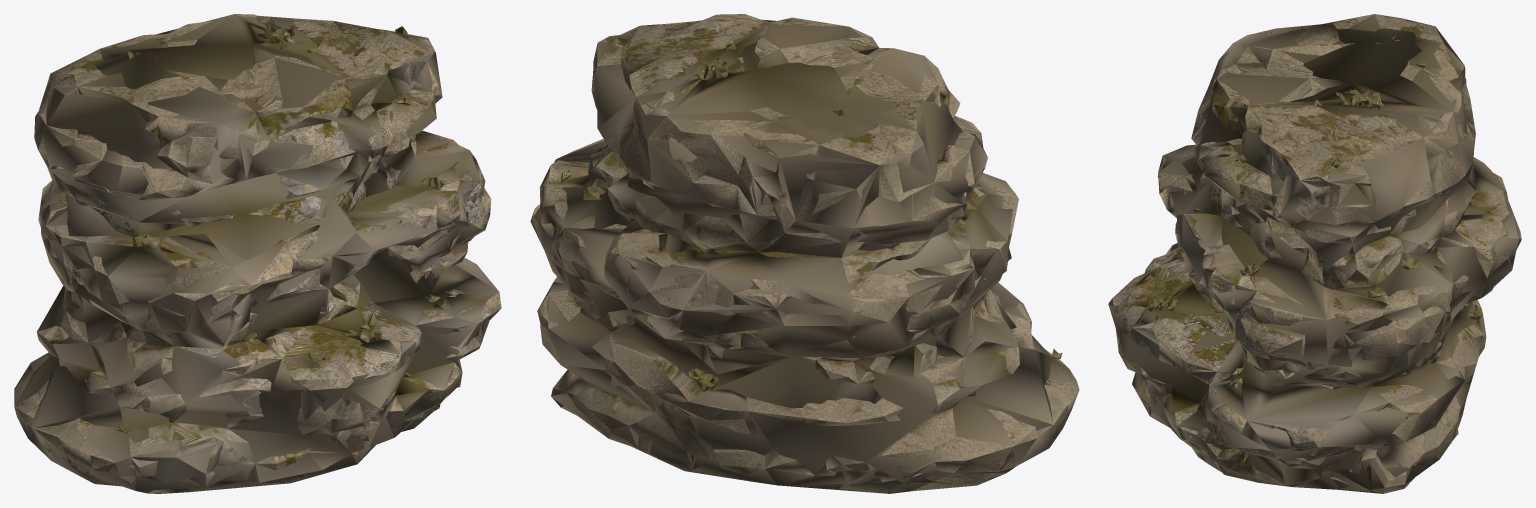
The model's file is risco_estratos.glb.
3 renders of one model, left to right at view 1: azimuth 30°, elevation 25°; view 2: azimuth 150°, elevation 25°; view 3: azimuth 270°, elevation 25°, orthographic. The views are drawn at different scales.
Visible parts, largest first — view 1: cerca, medio, lejos; view 2: cerca, medio, lejos; view 3: cerca, medio, lejos.
Part boxes in pixels (left/top/right/bottom): cerca: left=14, top=14, right=501, bottom=493; medio: left=15, top=14, right=498, bottom=493; lejos: left=32, top=14, right=498, bottom=490; cerca: left=530, top=14, right=1079, bottom=493; medio: left=537, top=15, right=1076, bottom=485; lejos: left=538, top=19, right=1053, bottom=475; cerca: left=1108, top=14, right=1521, bottom=493; medio: left=1108, top=14, right=1519, bottom=491; lejos: left=1108, top=27, right=1519, bottom=491.
Size of the model in its own units: 5.36 by 3.9 by 4.28.
Materials: 2 (1 with a texture image).
